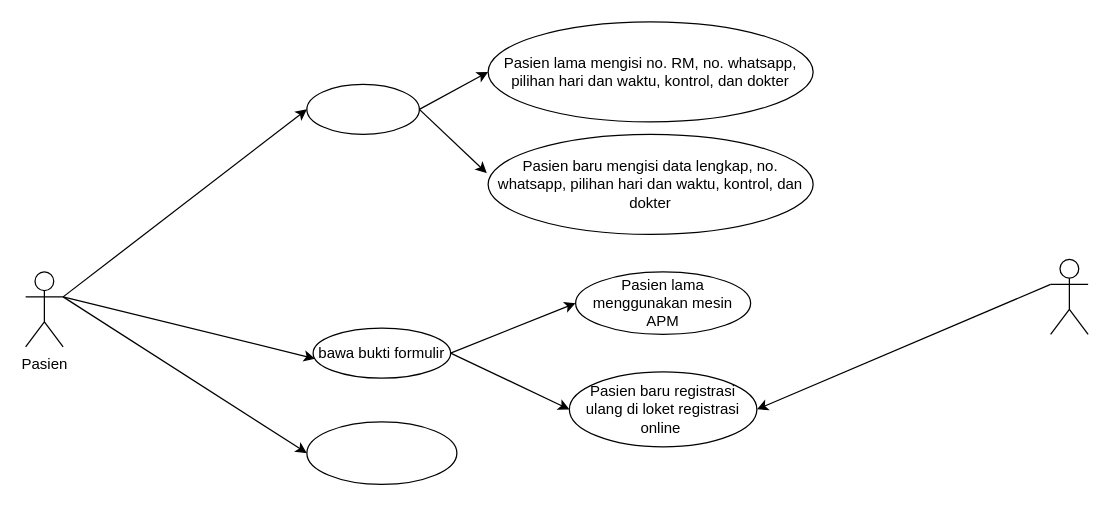
The diagram is 1110 pixels wide and 506 high, and some of its shapes have lost their labels. Here are the shapes that lost their labels. From the top down, the centre of each, then its label:
At (x=362, y=108): "isi formulir".
At (x=1068, y=296): "Loket".
At (x=381, y=452): "datang tepat waktu".
